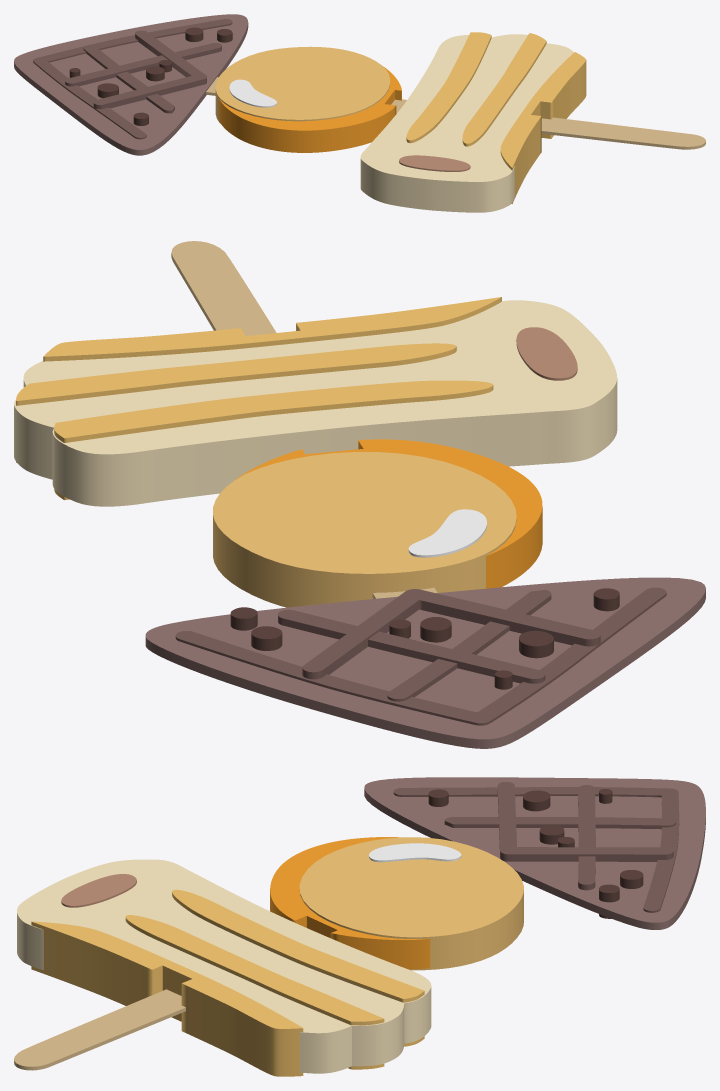
Rendered from emoji_u1f362.glb.
3 renders of one model, top to bottom at view 1: azimuth 30°, elevation 25°; view 2: azimuth 150°, elevation 25°; view 3: azimuth 270°, elevation 25°, orthographic. The views are drawn at different scales.
Parts seen in each view (by area): view 1: emoji_u1f362; view 2: emoji_u1f362; view 3: emoji_u1f362.
Boxes of the visible parts, <box> form: emoji_u1f362: <box>14,14,705,212</box>; emoji_u1f362: <box>14,241,705,748</box>; emoji_u1f362: <box>14,777,705,1076</box>.
Size of the model in its own units: 0.0336 by 0.0026 by 0.0341.
